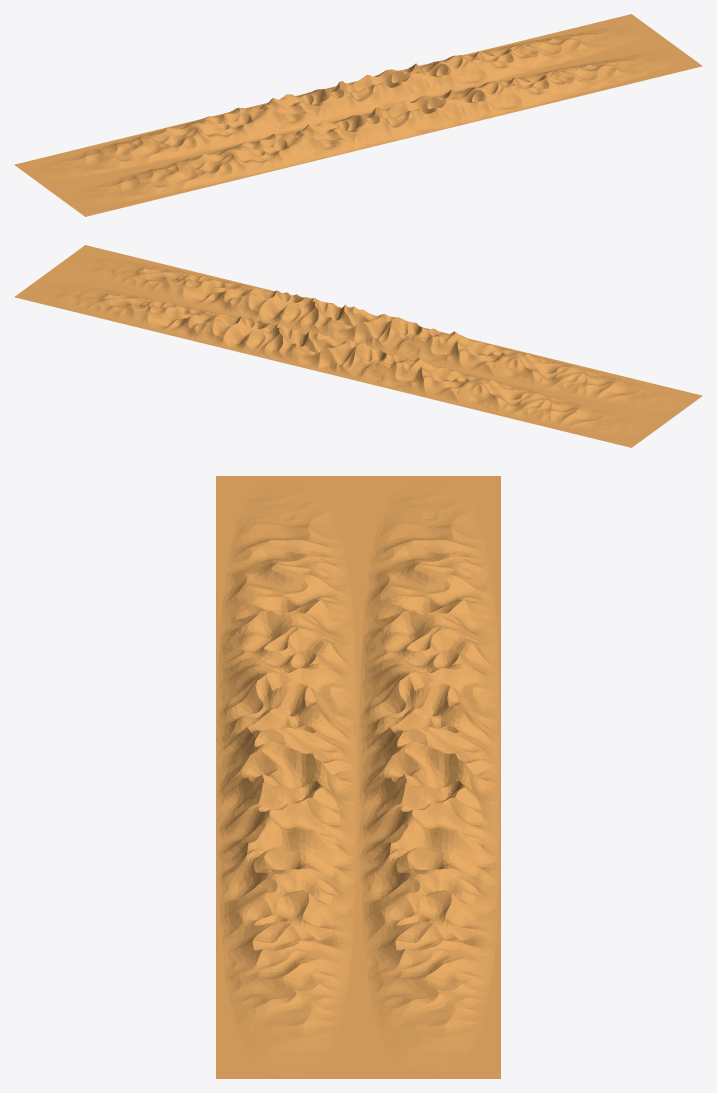
Rendered from Desert.fbx.
3 renders of one model, top to bottom at view 1: azimuth 30°, elevation 25°; view 2: azimuth 150°, elevation 25°; view 3: azimuth 270°, elevation 25°, orthographic. The views are drawn at different scales.
Visible parts, largest first — view 1: desert; view 2: desert; view 3: desert.
Part boxes in pixels (box(x1,y1,x2,y2)): desert: box(14, 14, 702, 216); desert: box(14, 245, 702, 447); desert: box(216, 476, 500, 1078).
Size of the model in its own units: 2000 by 56.53 by 400.
